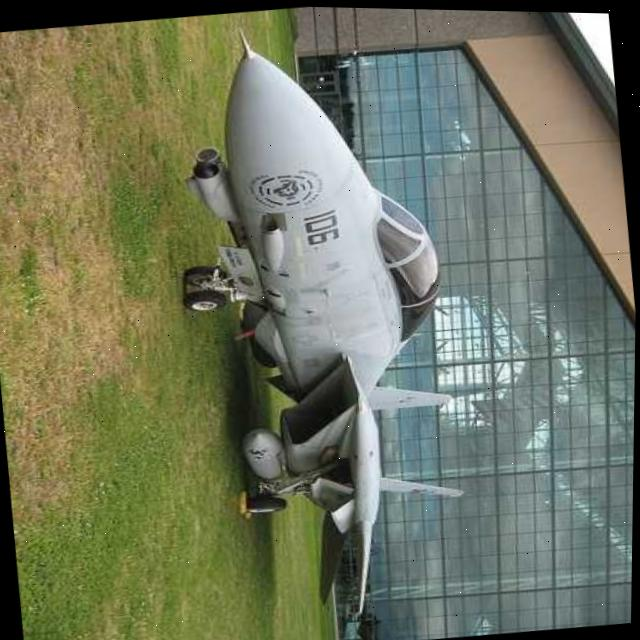missile: (232, 415, 291, 495)
